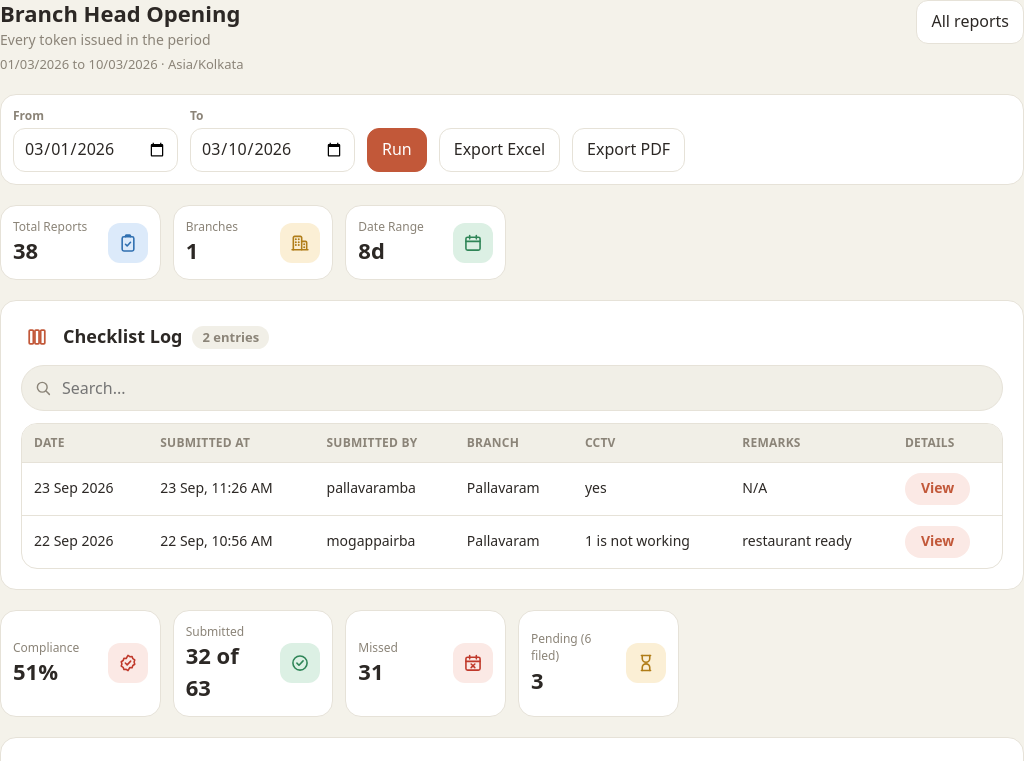
Test: tasks.opening report screen › RF-68. View opens that submission, read from its task, and Escape closes it
Click the button with aria-label "View 23 Sep 2026" at (938, 489), box 905,473 -> 970,505
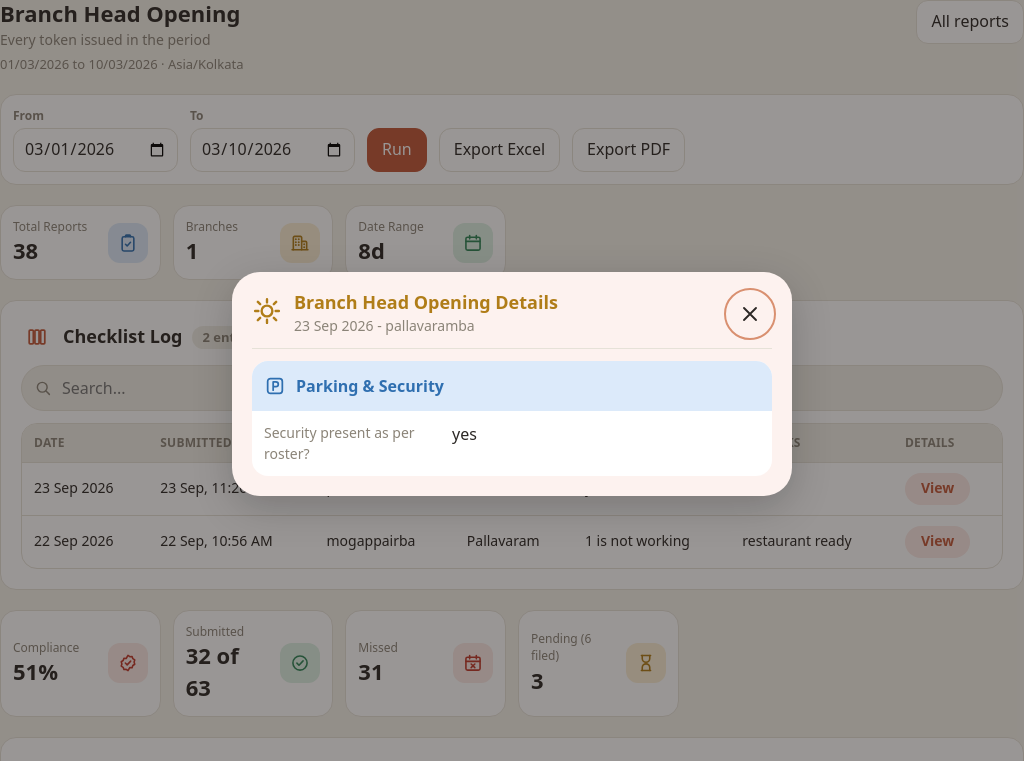
Now the text "23 Sep 2026 - pallavaramba" is shown, box 294,316 -> 475,335
Now the heading "Parking & Security" is shown, box 252,361 -> 772,411
Now the text "Security present as per roster?" is shown, box 264,423 -> 440,464
Press Escape
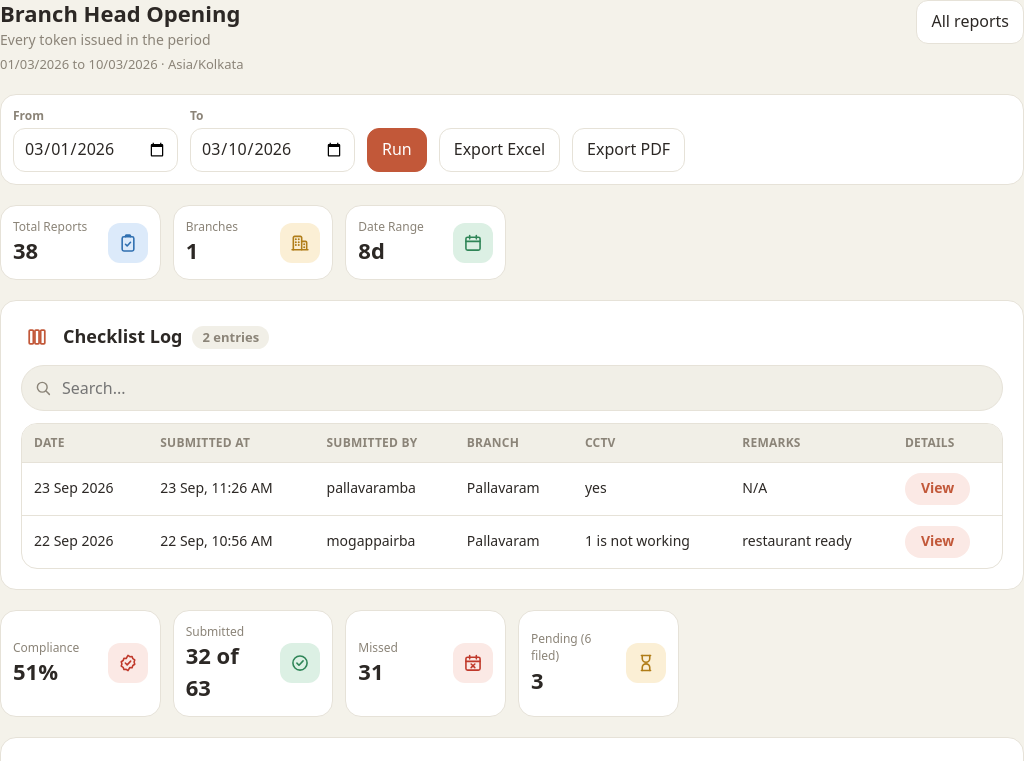
Now the dialog is gone
